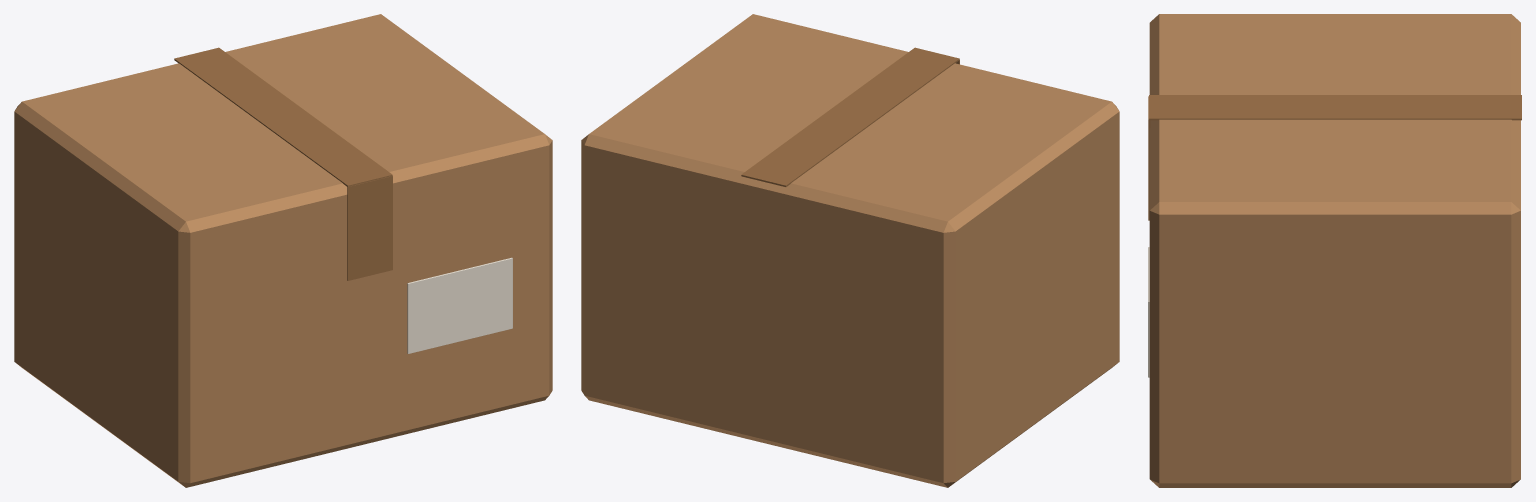
Rendered from package_box.glb.
3 renders of one model, left to right at view 1: azimuth 30°, elevation 25°; view 2: azimuth 150°, elevation 25°; view 3: azimuth 270°, elevation 25°, orthographic. The views are drawn at different scales.
Parts seen in each view (by area): view 1: box, tape_top, label, tape_front; view 2: box, tape_top; view 3: box, tape_top.
Part boxes in pixels (<box>): box: <box>14,14,552,487</box>; tape_top: <box>174,47,392,186</box>; label: <box>407,257,512,353</box>; tape_front: <box>347,176,392,280</box>; box: <box>581,14,1119,487</box>; tape_top: <box>741,47,959,186</box>; box: <box>1149,14,1520,487</box>; tape_top: <box>1149,95,1521,120</box>.
Bounding box in the file's own units: 0.5 × 0.3415 × 0.4028.
